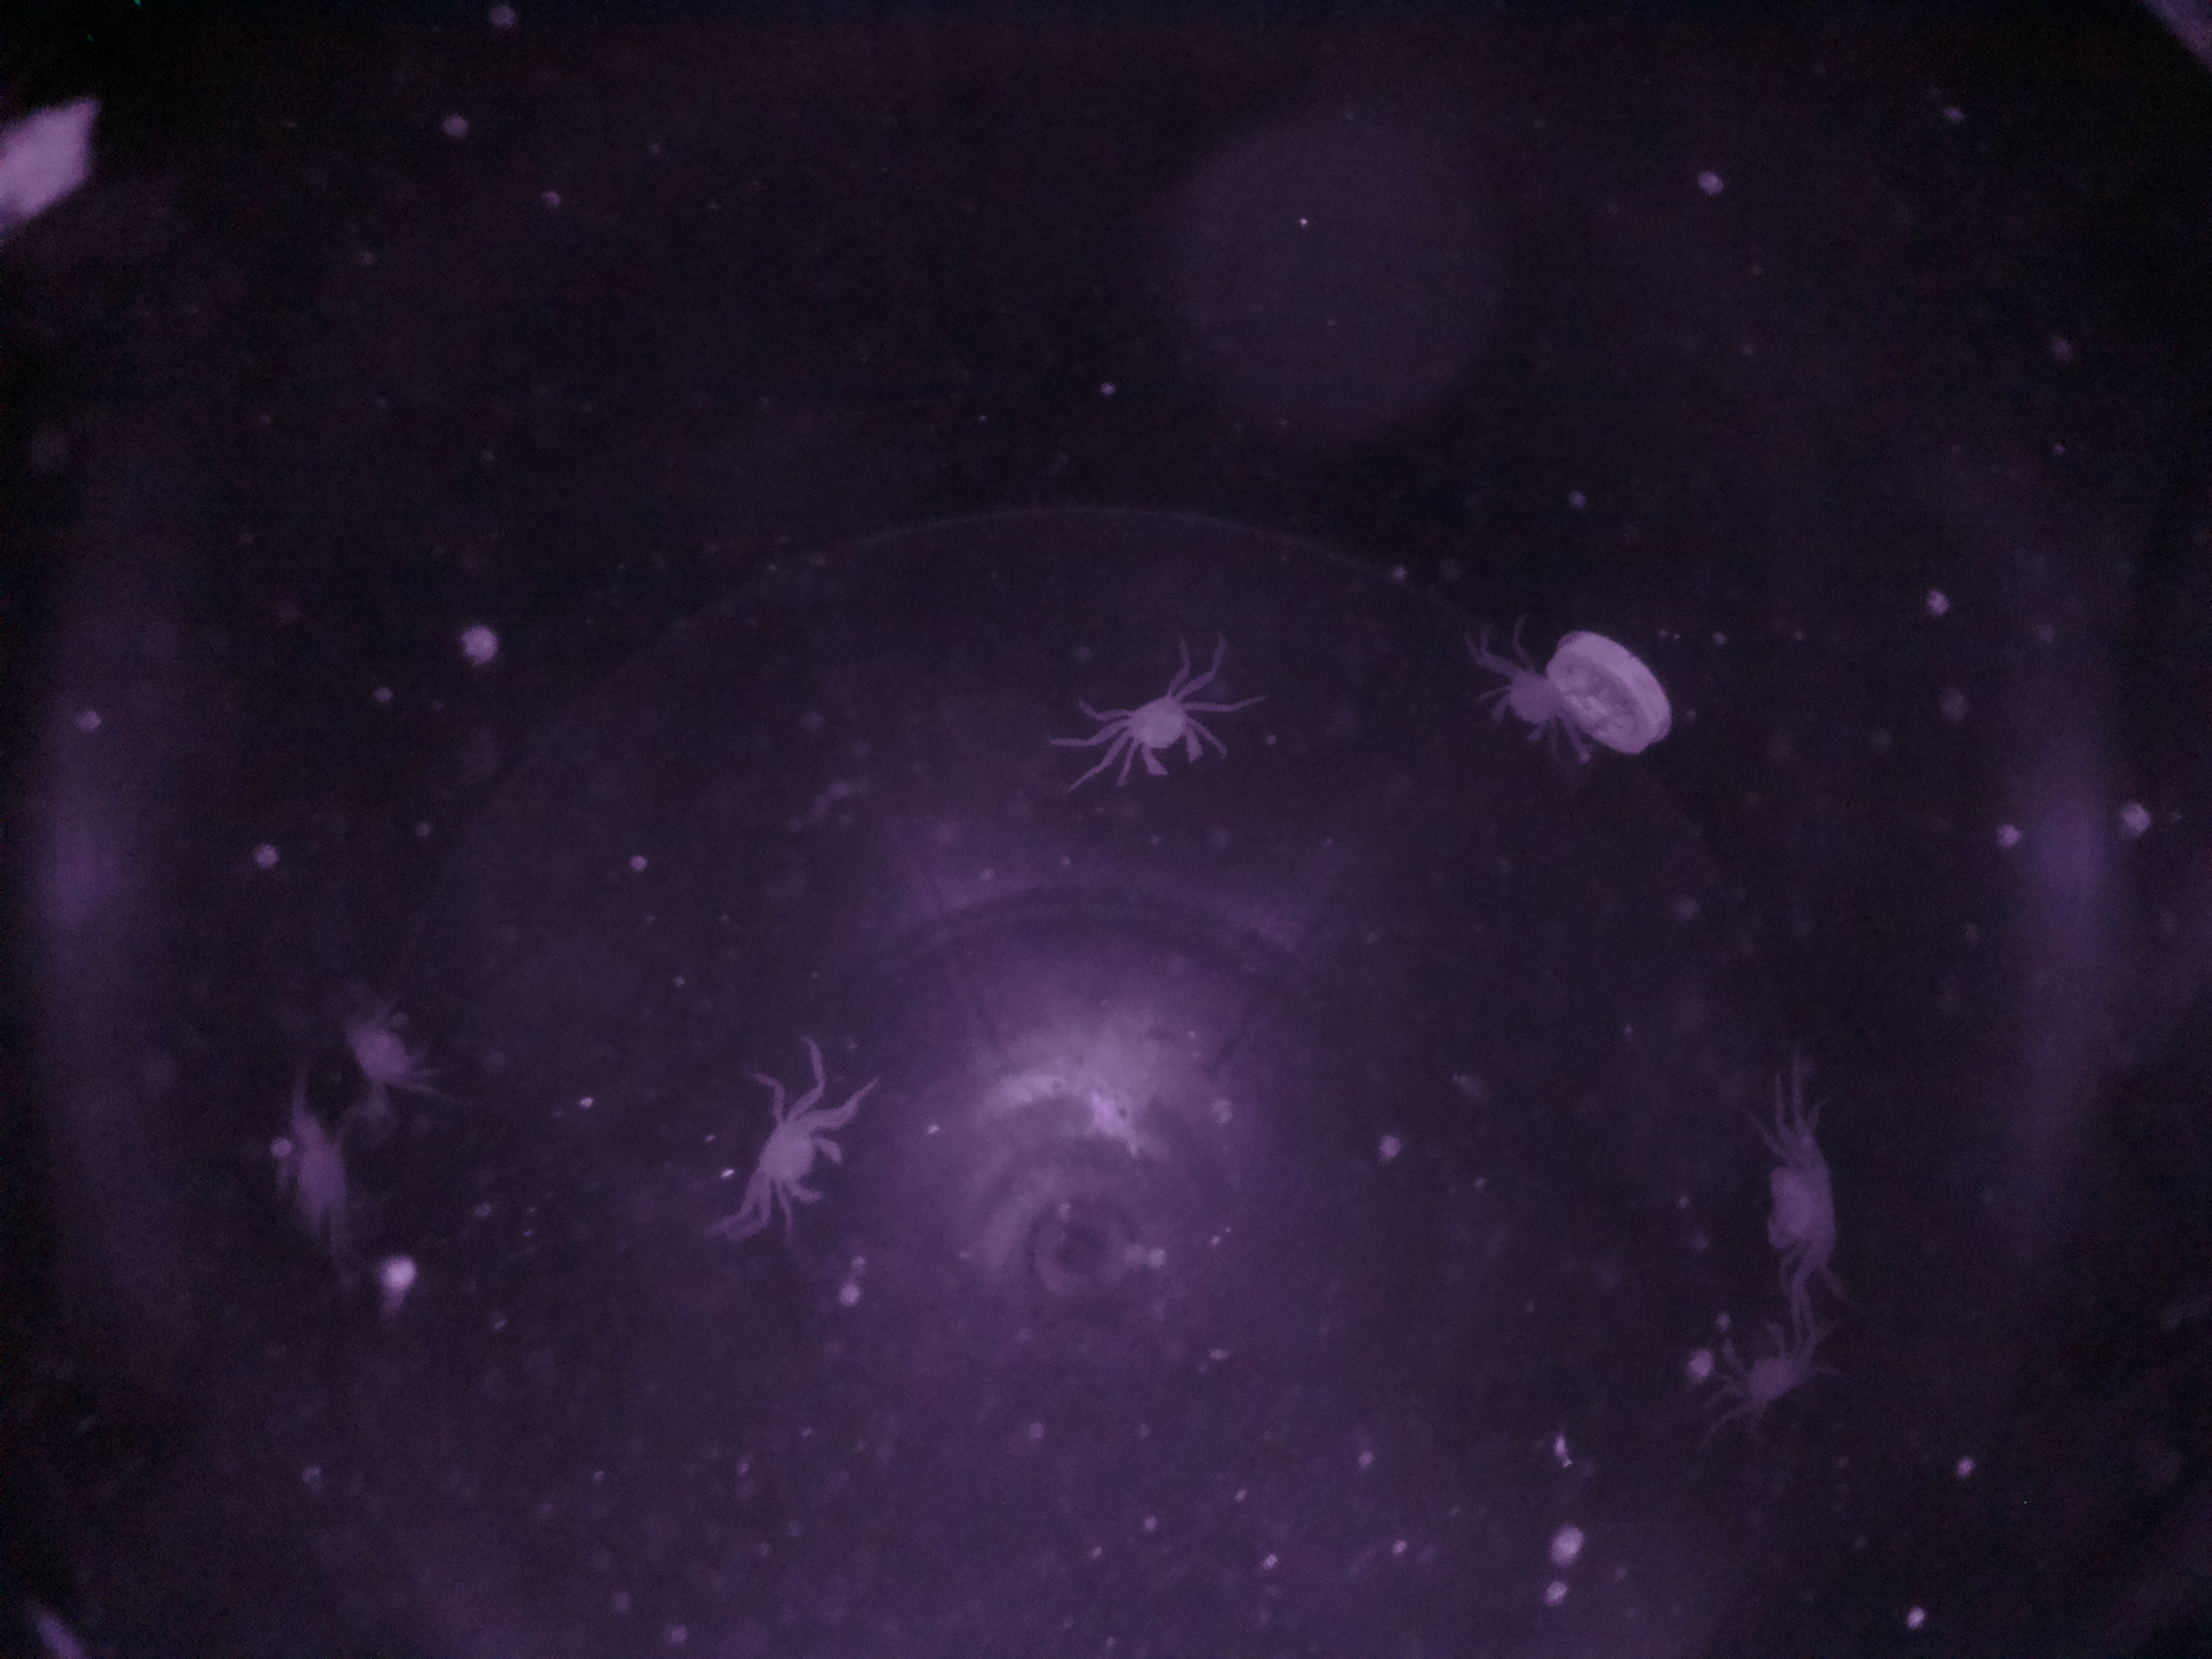Crab: (1742, 1133, 1872, 1286), (735, 1094, 855, 1220), (1103, 674, 1223, 798)
